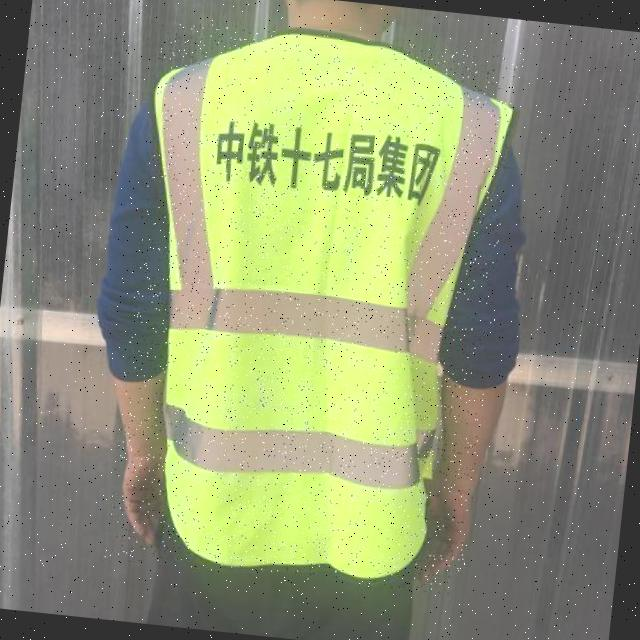vest: (105, 18, 520, 596)
